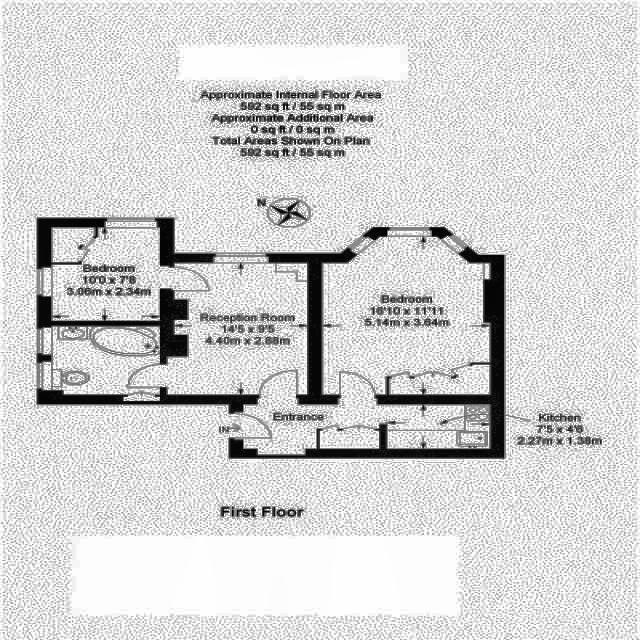room: (322, 236, 491, 394), (168, 263, 307, 395), (243, 404, 490, 448), (53, 228, 160, 321), (50, 326, 159, 400)
